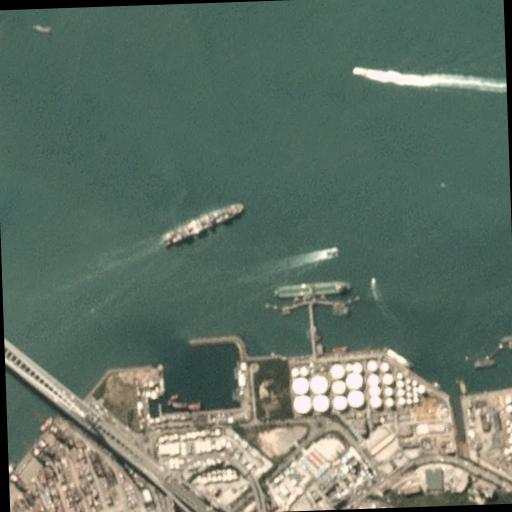ship: (159, 201, 243, 245), (272, 278, 350, 298), (29, 22, 52, 34), (472, 357, 496, 368), (322, 245, 336, 258), (166, 391, 178, 404), (170, 400, 185, 408), (186, 402, 200, 408), (368, 276, 376, 284)
